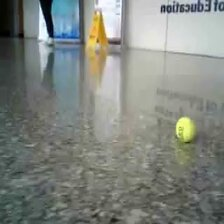tennis: (175, 116, 196, 144)
